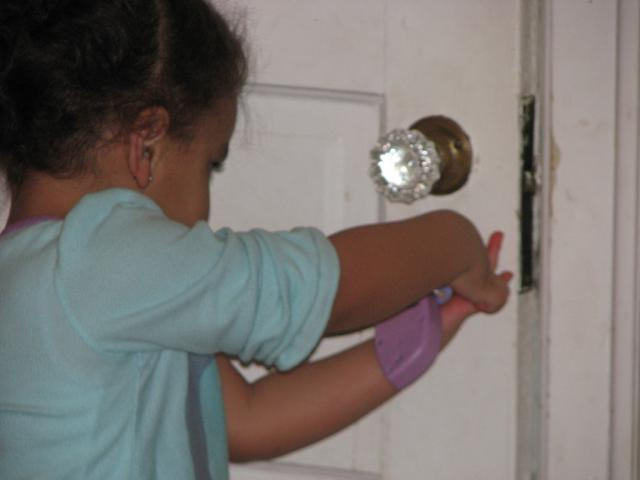Door-handle: (368, 114, 476, 202)
